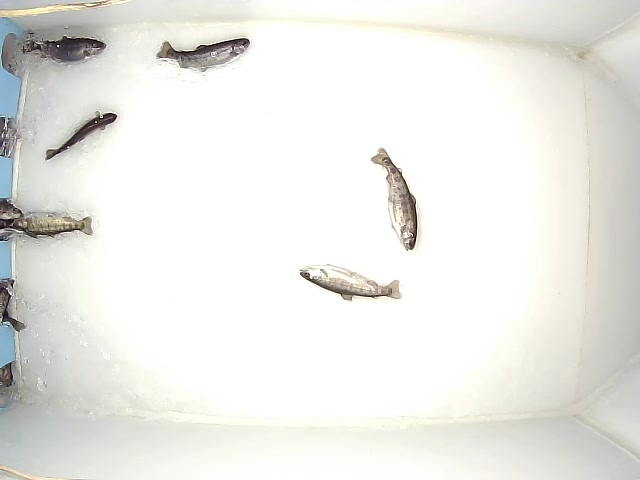fish: (369, 143, 419, 254), (294, 261, 403, 303), (42, 112, 120, 166), (150, 36, 246, 73), (1, 209, 97, 238), (20, 38, 114, 65)
